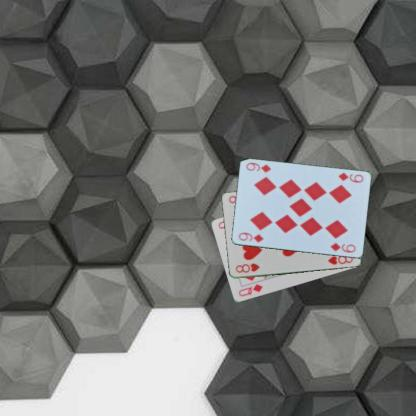8h: (233, 260, 260, 274)
9d: (235, 230, 264, 244), (336, 170, 364, 184)
Qd: (236, 282, 264, 298)
